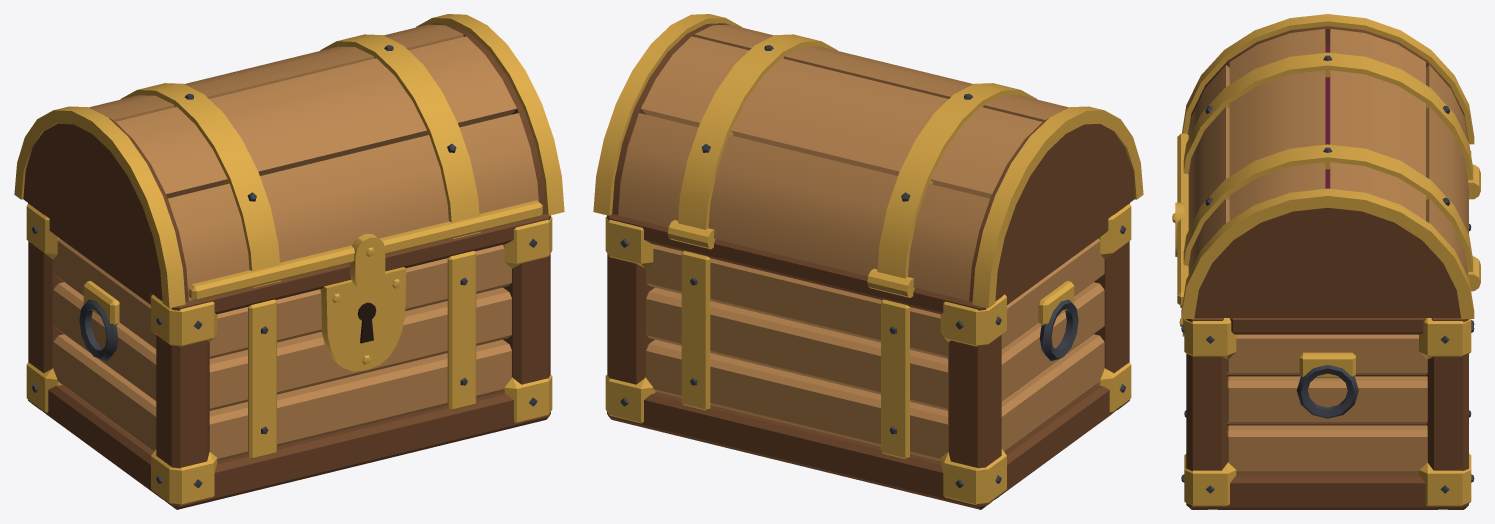
The model's file is item_chest.glb.
3 renders of one model, left to right at view 1: azimuth 30°, elevation 25°; view 2: azimuth 150°, elevation 25°; view 3: azimuth 270°, elevation 25°, orthographic. The views are drawn at different scales.
Visible parts, largest first — view 1: Chest, Lid; view 2: Chest, Lid; view 3: Lid, Chest.
Part boxes in pixels (left/top/right/bottom): Chest: left=26, top=203, right=552, bottom=509; Lid: left=14, top=14, right=564, bottom=308; Chest: left=605, top=203, right=1131, bottom=509; Lid: left=593, top=14, right=1143, bottom=308; Lid: left=1172, top=14, right=1474, bottom=318; Chest: left=1179, top=151, right=1480, bottom=509.
Bounding box in the file's own units: 0.99 × 0.819 × 0.71.
